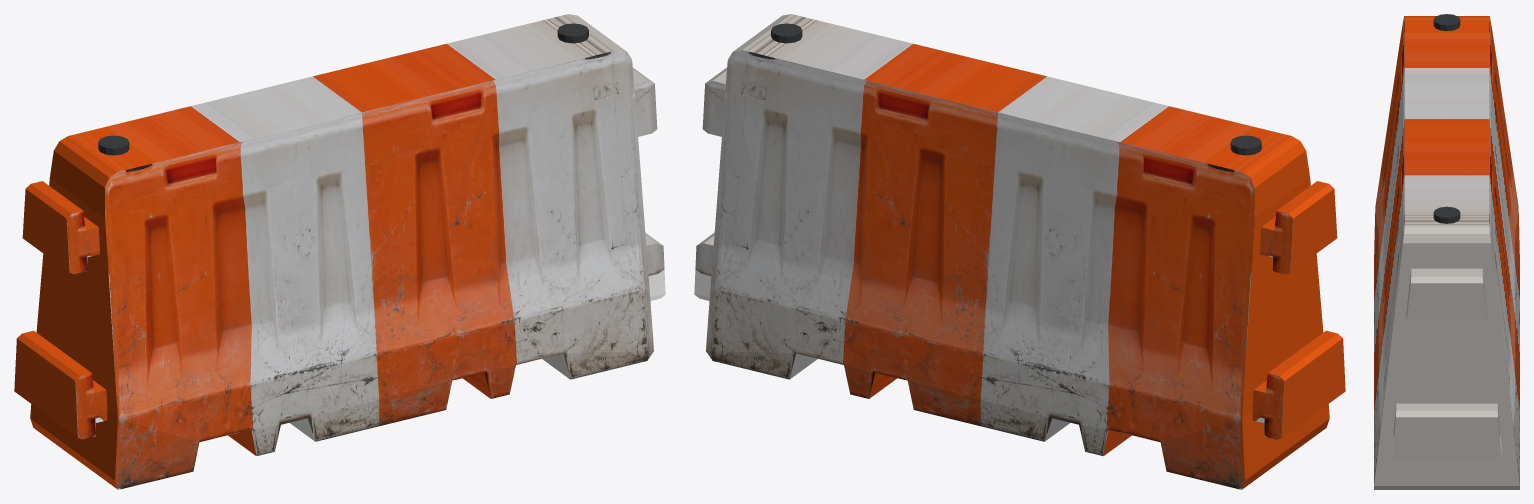
Rendered from cz_barrier.glb.
3 views of the same model, side by side, from view 1: azimuth 30°, elevation 25°; view 2: azimuth 150°, elevation 25°; view 3: azimuth 270°, elevation 25° (orthographic). The views are drawn at different scales.
Parts seen in each view (by area): view 1: cz_barrier; view 2: cz_barrier; view 3: cz_barrier.
Boxes of the visible parts, <box> form: cz_barrier: <box>14,14,665,489</box>; cz_barrier: <box>694,14,1345,489</box>; cz_barrier: <box>1374,14,1519,489</box>.
Size of the model in its own units: 2 by 1 by 0.5001.
2 materials, 1 textured.
